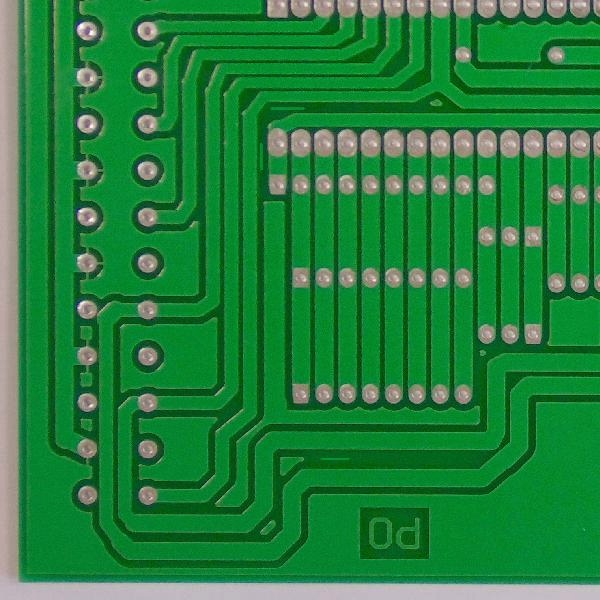spurious_copper: (315, 447, 356, 471), (266, 100, 310, 116), (256, 139, 267, 175)
